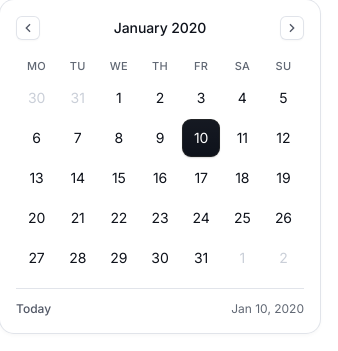
Scenario: Datepicker › jumps back to today
The width and height of the screenshot is (338, 351).
Expected: the text "January 2020" is shown, left=114, top=18, right=206, bottom=38
Click the button "Today": (34, 309) left=16, top=301, right=51, bottom=317
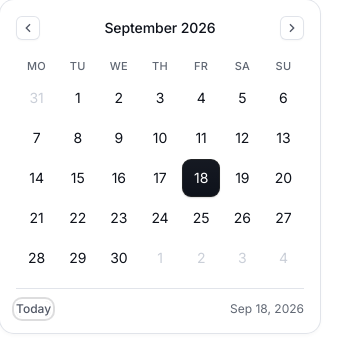
Expected: the text "September 2026" is shown, left=104, top=18, right=216, bottom=38
